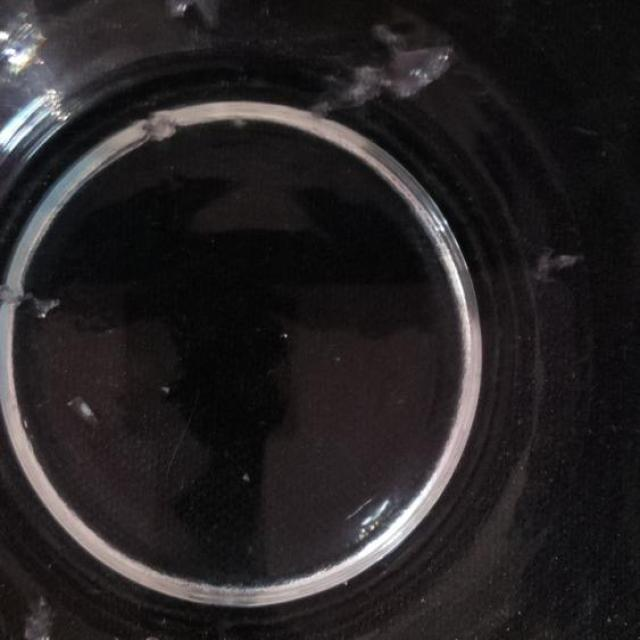fiber: (326, 8, 456, 132), (0, 286, 65, 330), (164, 0, 229, 39), (57, 384, 98, 431), (533, 247, 586, 280), (25, 586, 57, 639), (122, 617, 183, 639)
